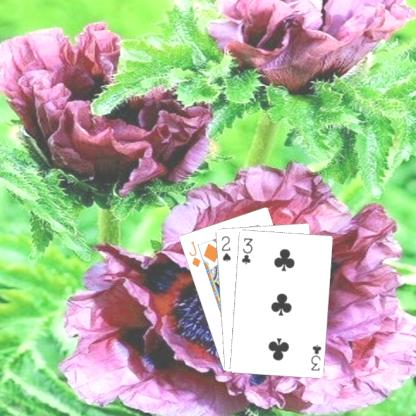2S: (218, 233, 232, 263)
3C: (238, 234, 254, 266), (308, 341, 322, 372)
JD: (186, 238, 202, 269)
